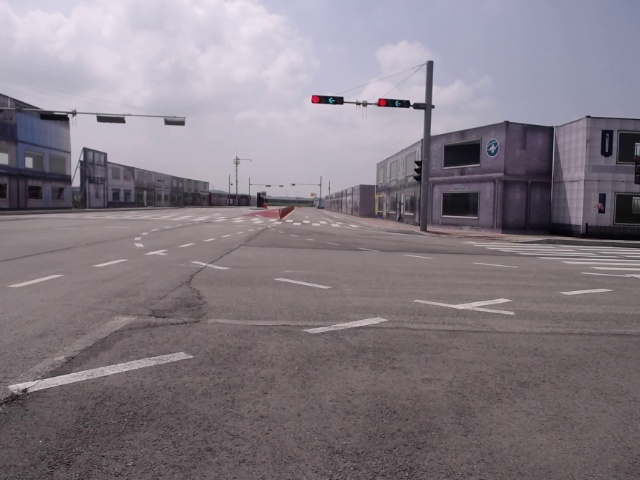left_green_4: (312, 96, 344, 105), (378, 99, 410, 108)
